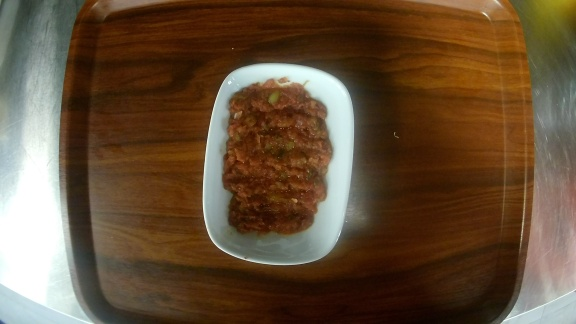acilimeze: (201, 61, 354, 265)
